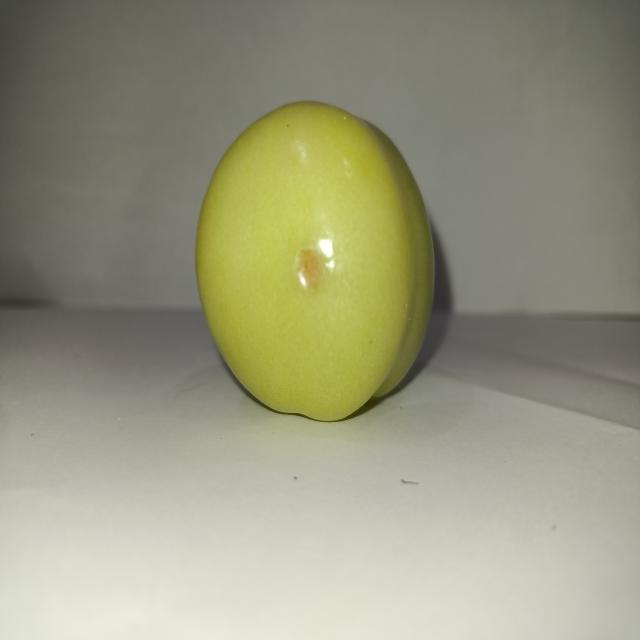Red: (193, 98, 436, 422)
